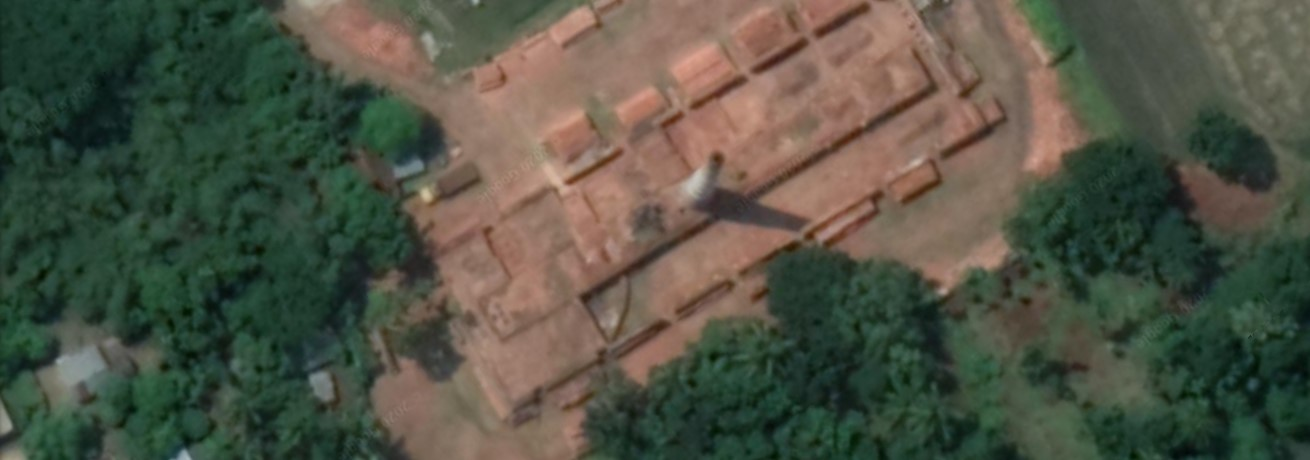kiln: (464, 73, 997, 249)
